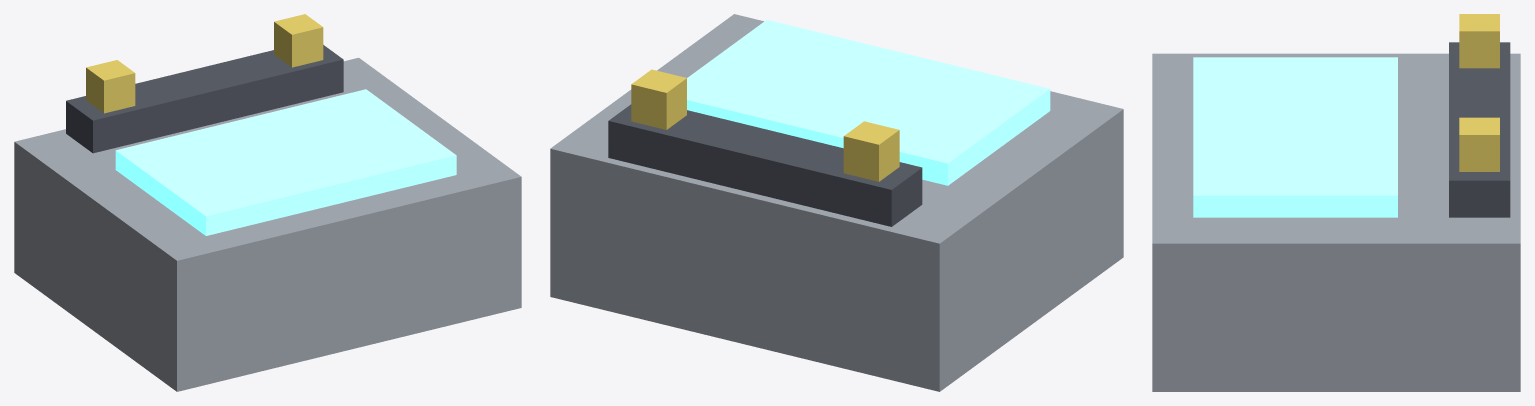
File: modulo_controle.glb
3 renders of one model, left to right at view 1: azimuth 30°, elevation 25°; view 2: azimuth 150°, elevation 25°; view 3: azimuth 270°, elevation 25°, orthographic. The views are drawn at different scales.
Parts seen in each view (by area): view 1: modulo_controle; view 2: modulo_controle; view 3: modulo_controle.
Part boxes in pixels (box(x1,y1,x2,y2)): modulo_controle: box(14, 14, 521, 391); modulo_controle: box(550, 14, 1123, 391); modulo_controle: box(1152, 14, 1520, 391).
Bounding box in the file's own units: 0.22 × 0.12 × 0.18.
